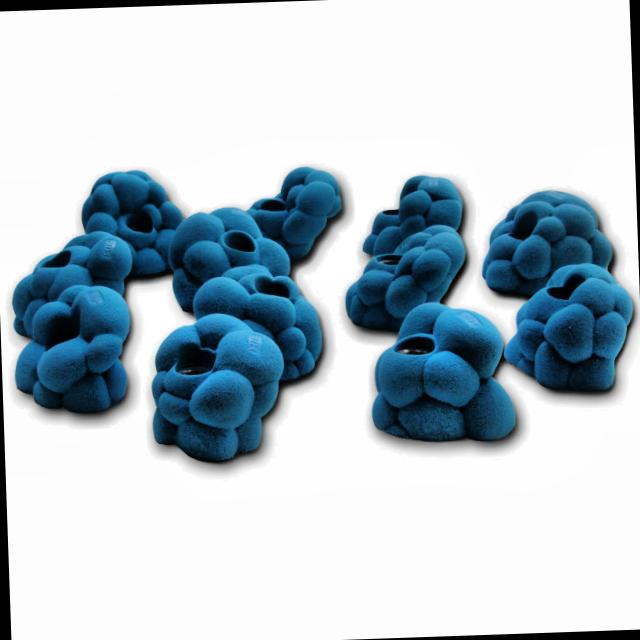Hold: (368, 298, 514, 449), (144, 314, 284, 462), (481, 182, 619, 298), (506, 276, 634, 392), (341, 224, 476, 333), (15, 290, 133, 408), (195, 268, 321, 375), (73, 162, 185, 278), (11, 222, 134, 323), (358, 165, 464, 262), (250, 153, 347, 255)
